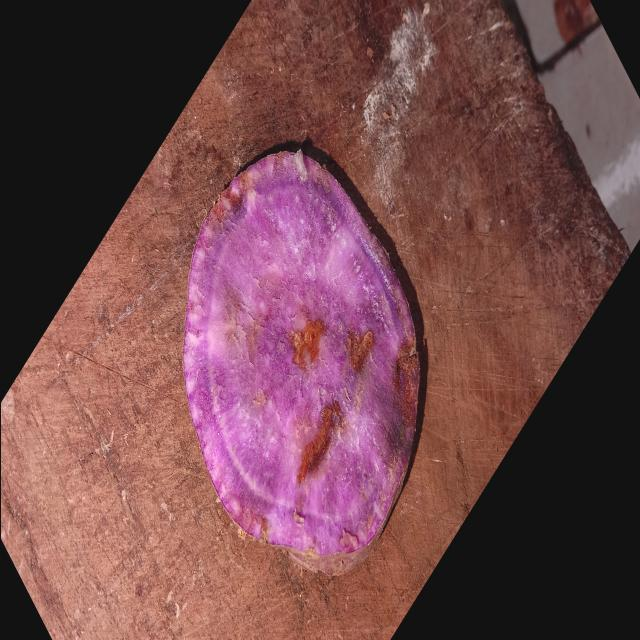Sick Sweet Potato_Tuber Rot: (182, 151, 419, 573)
